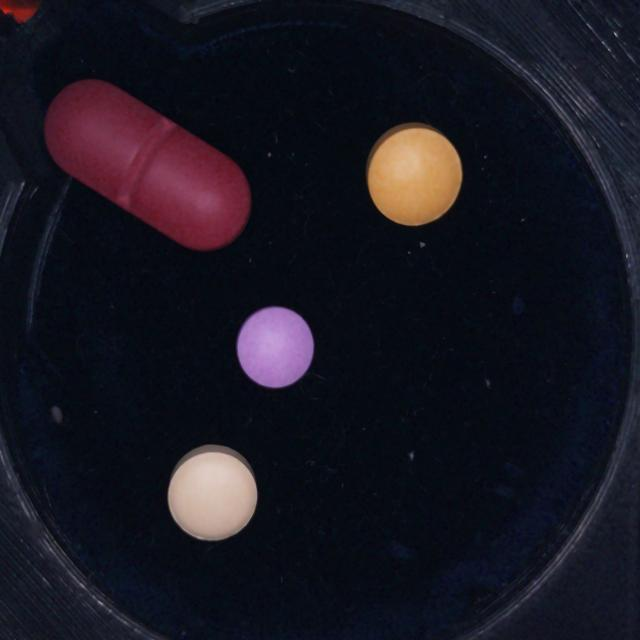Pill: (45, 80, 251, 250), (366, 122, 463, 226), (167, 445, 258, 541), (236, 306, 314, 388)
